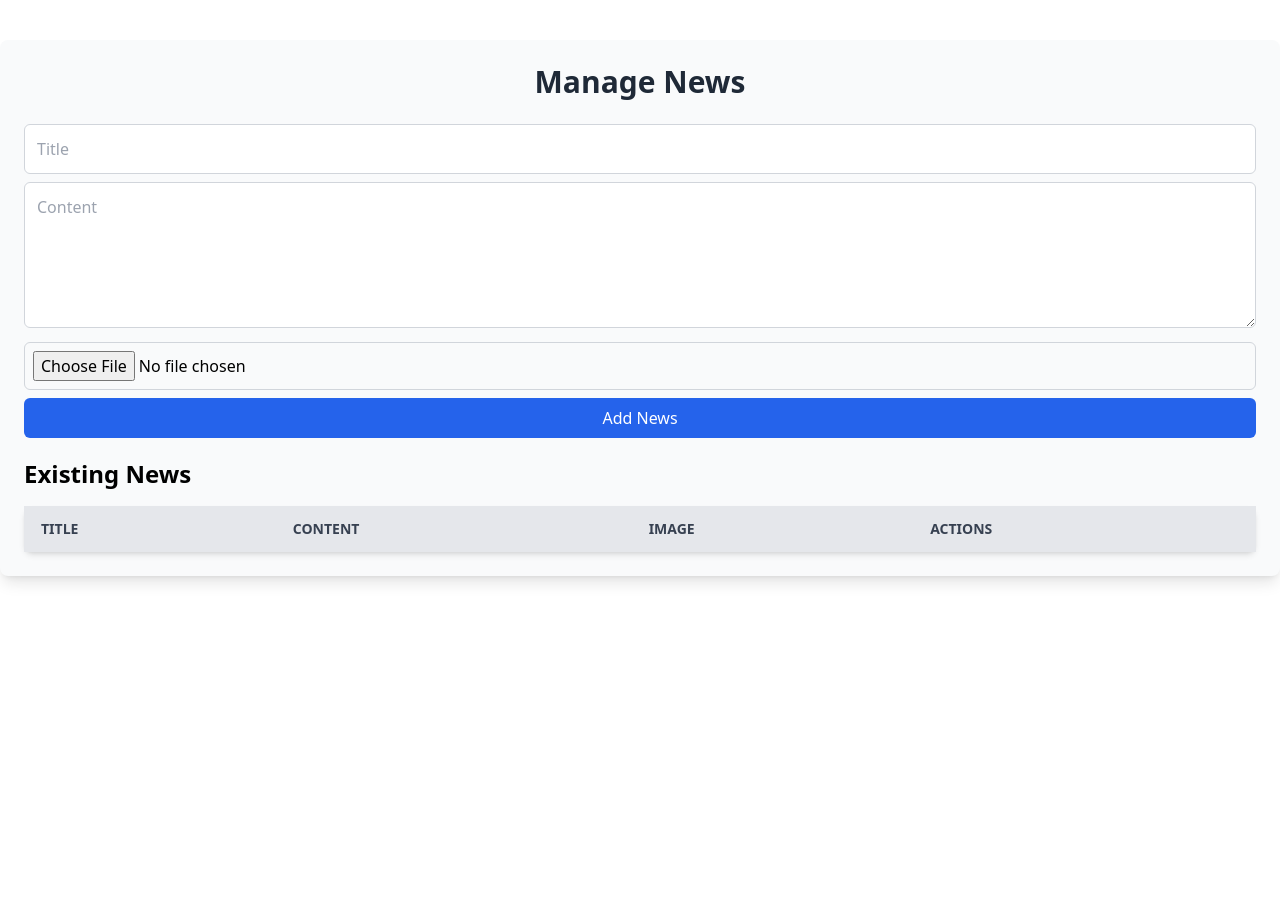
Scenario: NewsList Component › displays an error when trying to create a news item with empty fields
// Nhấp nút "Add News" mà không nhập tiêu đề và nội dung
Click the button "Add News". click: x=640, y=418
box: x1=24 y1=398 x2=1256 y2=438
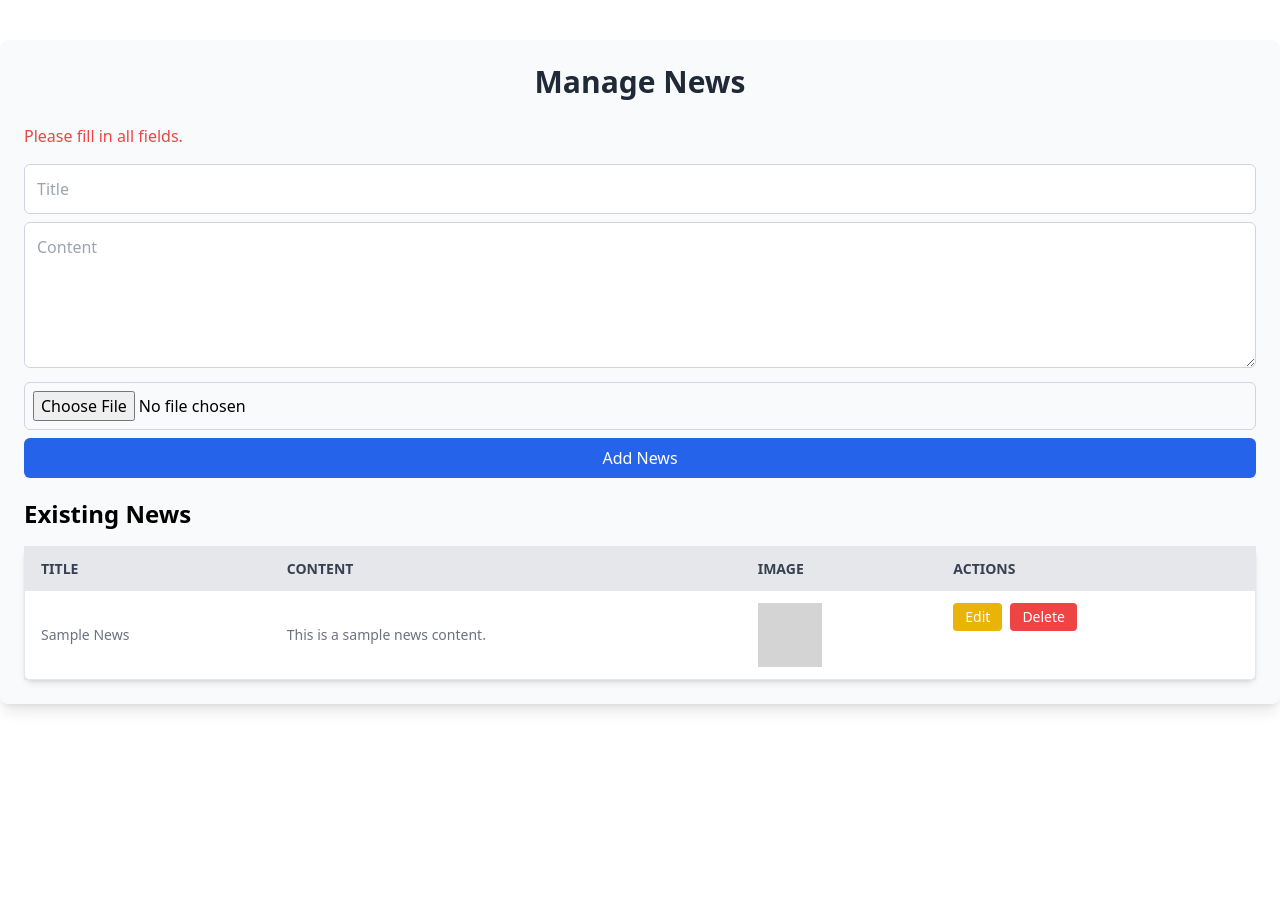
expect the text "Please fill in all fields." is shown: met, box x1=24 y1=125 x2=183 y2=147
